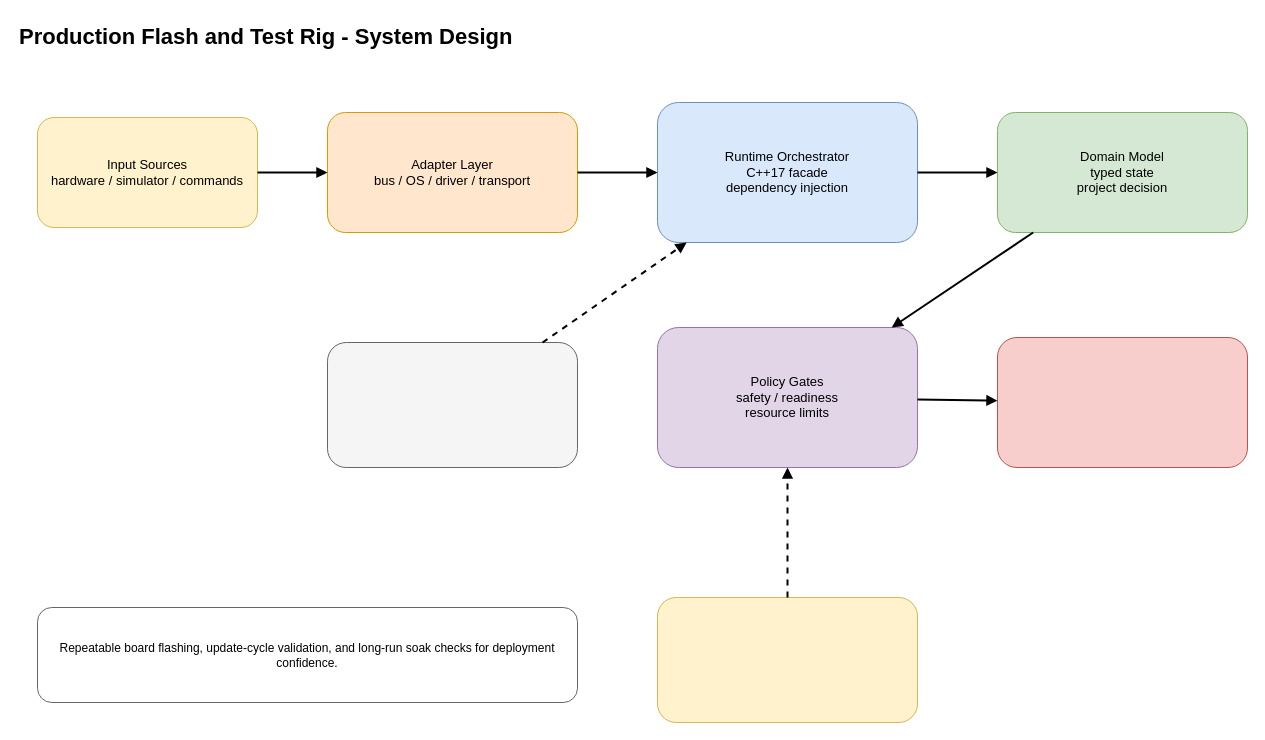
The diagram is 1265 pixels wide and 740 high, and some of its shapes have lost their labels. Each missing label, with the centre of its shape:
"Evidence Outputs telemetry / logs / reports" belongs at point (1122, 402).
"Roadmap design / host runtime target adapters / evidence" belongs at point (787, 659).
"Validation CTest / CI hardware evidence" belongs at point (452, 405).
